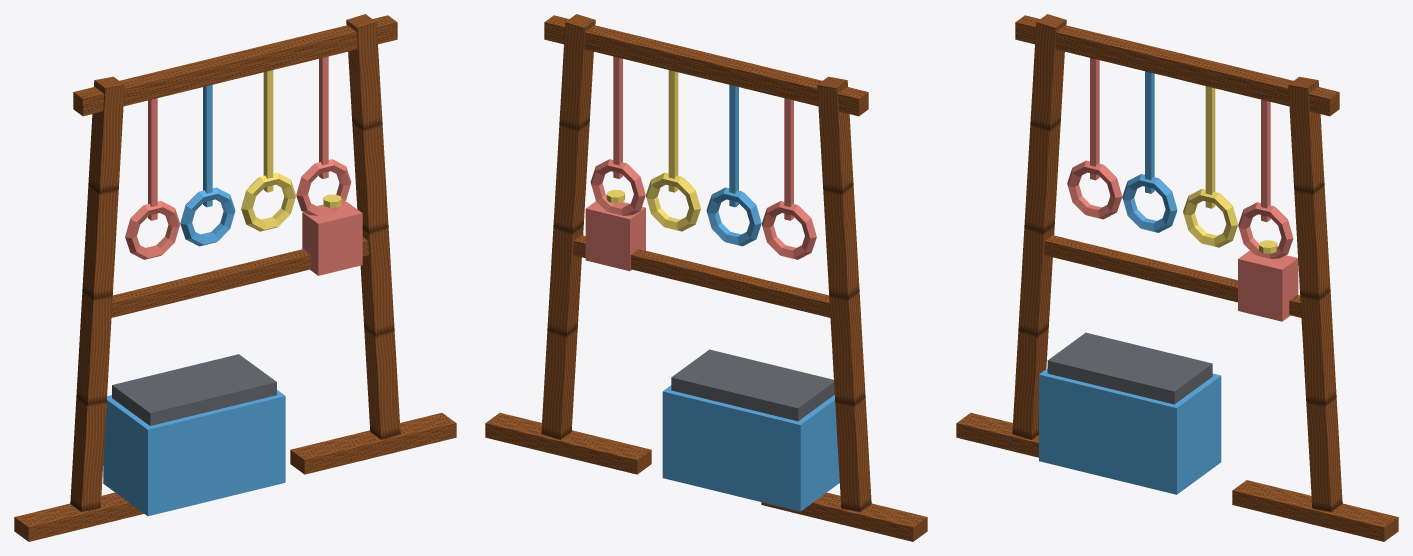
The model's file is dog-agility-and-training-field-lead-rack-and-kit-bag-1482a00c__35612.glb.
3 views of the same model, side by side, from view 1: azimuth 30°, elevation 25°; view 2: azimuth 150°, elevation 25°; view 3: azimuth 330°, elevation 25° (orthographic).
Parts seen in each view (by area): view 1: lead-rack-and-kit-bag-timber, lead-rack-and-kit-bag-azure, lead-rack-and-kit-bag-poppy, lead-rack-and-kit-bag-charcoal, lead-rack-and-kit-bag-sunflower; view 2: lead-rack-and-kit-bag-timber, lead-rack-and-kit-bag-azure, lead-rack-and-kit-bag-poppy, lead-rack-and-kit-bag-charcoal, lead-rack-and-kit-bag-sunflower; view 3: lead-rack-and-kit-bag-timber, lead-rack-and-kit-bag-azure, lead-rack-and-kit-bag-poppy, lead-rack-and-kit-bag-charcoal, lead-rack-and-kit-bag-sunflower.
Part boxes in pixels (x1,y1,x2,y2): lead-rack-and-kit-bag-timber: [14, 14, 456, 541]; lead-rack-and-kit-bag-azure: [103, 85, 285, 516]; lead-rack-and-kit-bag-poppy: [125, 56, 362, 275]; lead-rack-and-kit-bag-charcoal: [112, 354, 276, 425]; lead-rack-and-kit-bag-sunflower: [241, 70, 341, 231]; lead-rack-and-kit-bag-timber: [485, 14, 927, 541]; lead-rack-and-kit-bag-azure: [662, 85, 839, 511]; lead-rack-and-kit-bag-poppy: [585, 56, 816, 271]; lead-rack-and-kit-bag-charcoal: [671, 349, 834, 421]; lead-rack-and-kit-bag-sunflower: [606, 70, 700, 231]; lead-rack-and-kit-bag-timber: [956, 14, 1398, 541]; lead-rack-and-kit-bag-azure: [1039, 71, 1221, 494]; lead-rack-and-kit-bag-poppy: [1067, 58, 1298, 321]; lead-rack-and-kit-bag-charcoal: [1047, 332, 1212, 404]; lead-rack-and-kit-bag-sunflower: [1183, 86, 1277, 253].
Bounding box in the file's own units: 1.55 × 1.5 × 0.2799.
5 materials, 1 textured.
